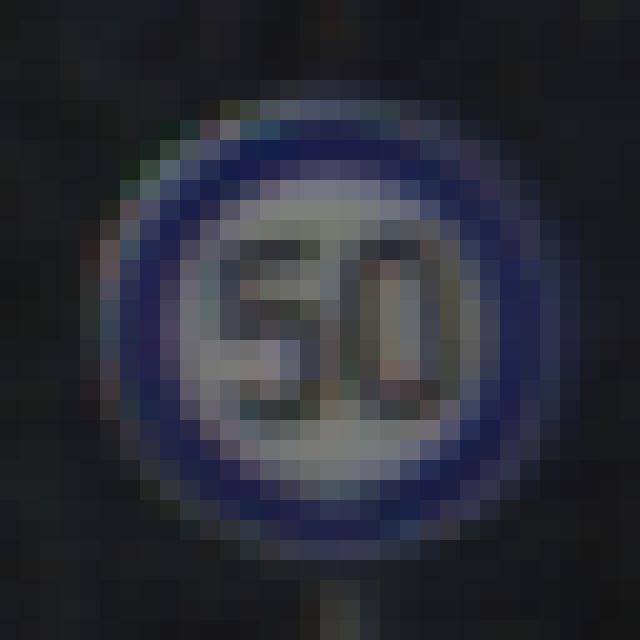SPEED LIMIT 50: (146, 160, 506, 520)
